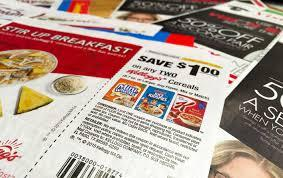Printing industry: (1, 3, 283, 178)
